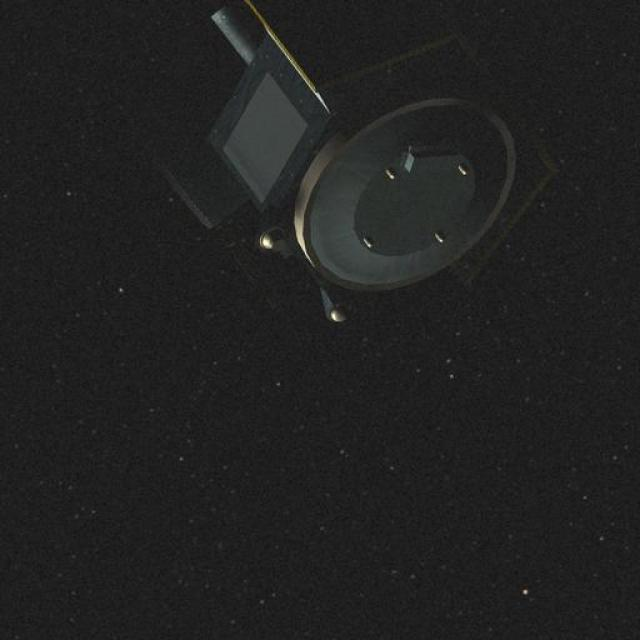cheops: (129, 8, 533, 306)
